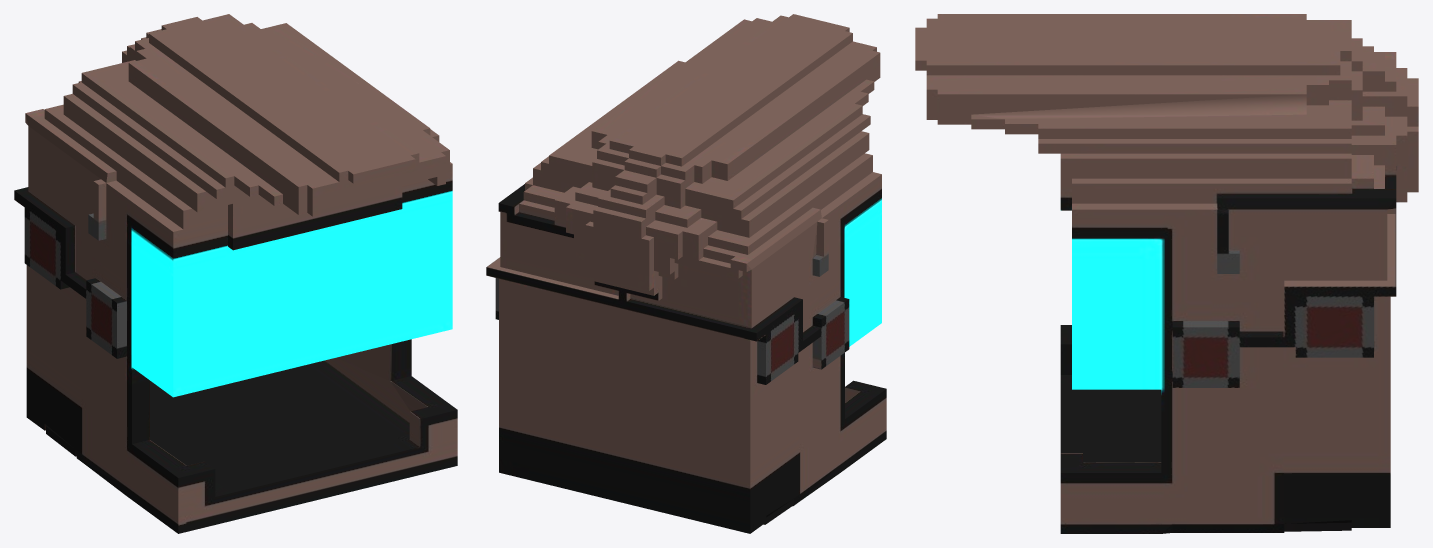
File: cyber_helmet.glb
3 views of the same model, side by side, from view 1: azimuth 30°, elevation 25°; view 2: azimuth 150°, elevation 25°; view 3: azimuth 270°, elevation 25° (orthographic). The views are drawn at different scales.
Visible parts, largest first — view 1: cyber_helmet.002; view 2: cyber_helmet.002; view 3: cyber_helmet.002.
Boxes of the visible parts, bbox=[...] form: cyber_helmet.002: bbox=[14, 14, 457, 533]; cyber_helmet.002: bbox=[486, 14, 886, 533]; cyber_helmet.002: bbox=[915, 14, 1418, 533].
Bounding box in the file's own units: 3.38 × 4.1 × 4.5.
1 material, 1 textured.
